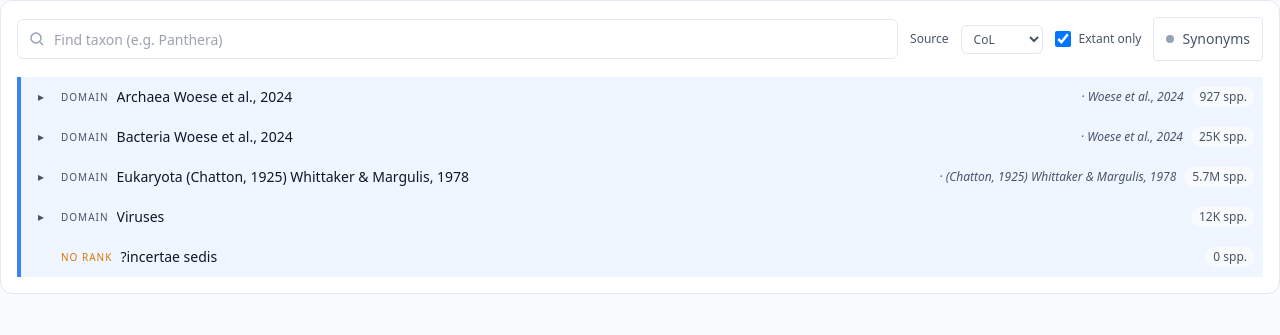
Test case: TaxonomicTree › caret click toggles aria-expanded
Expected: the element named "Taxonomic tree" is shown, [17,77,1263,277]
Step 1. Click the 2nd button → (85, 97), box [17,77,1263,117]
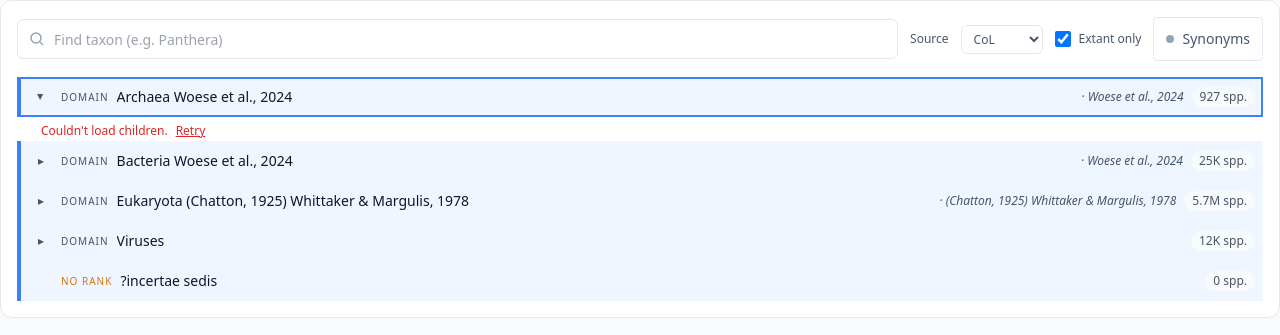
Now the list item "Archaea" is expanded, box [17,77,1263,141]
